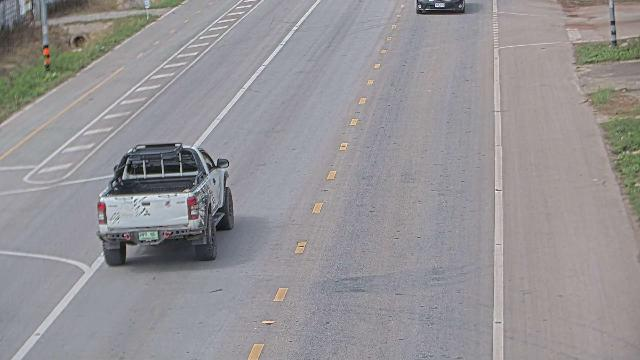pickup-truck: (95, 141, 234, 266), (416, 0, 466, 14)
